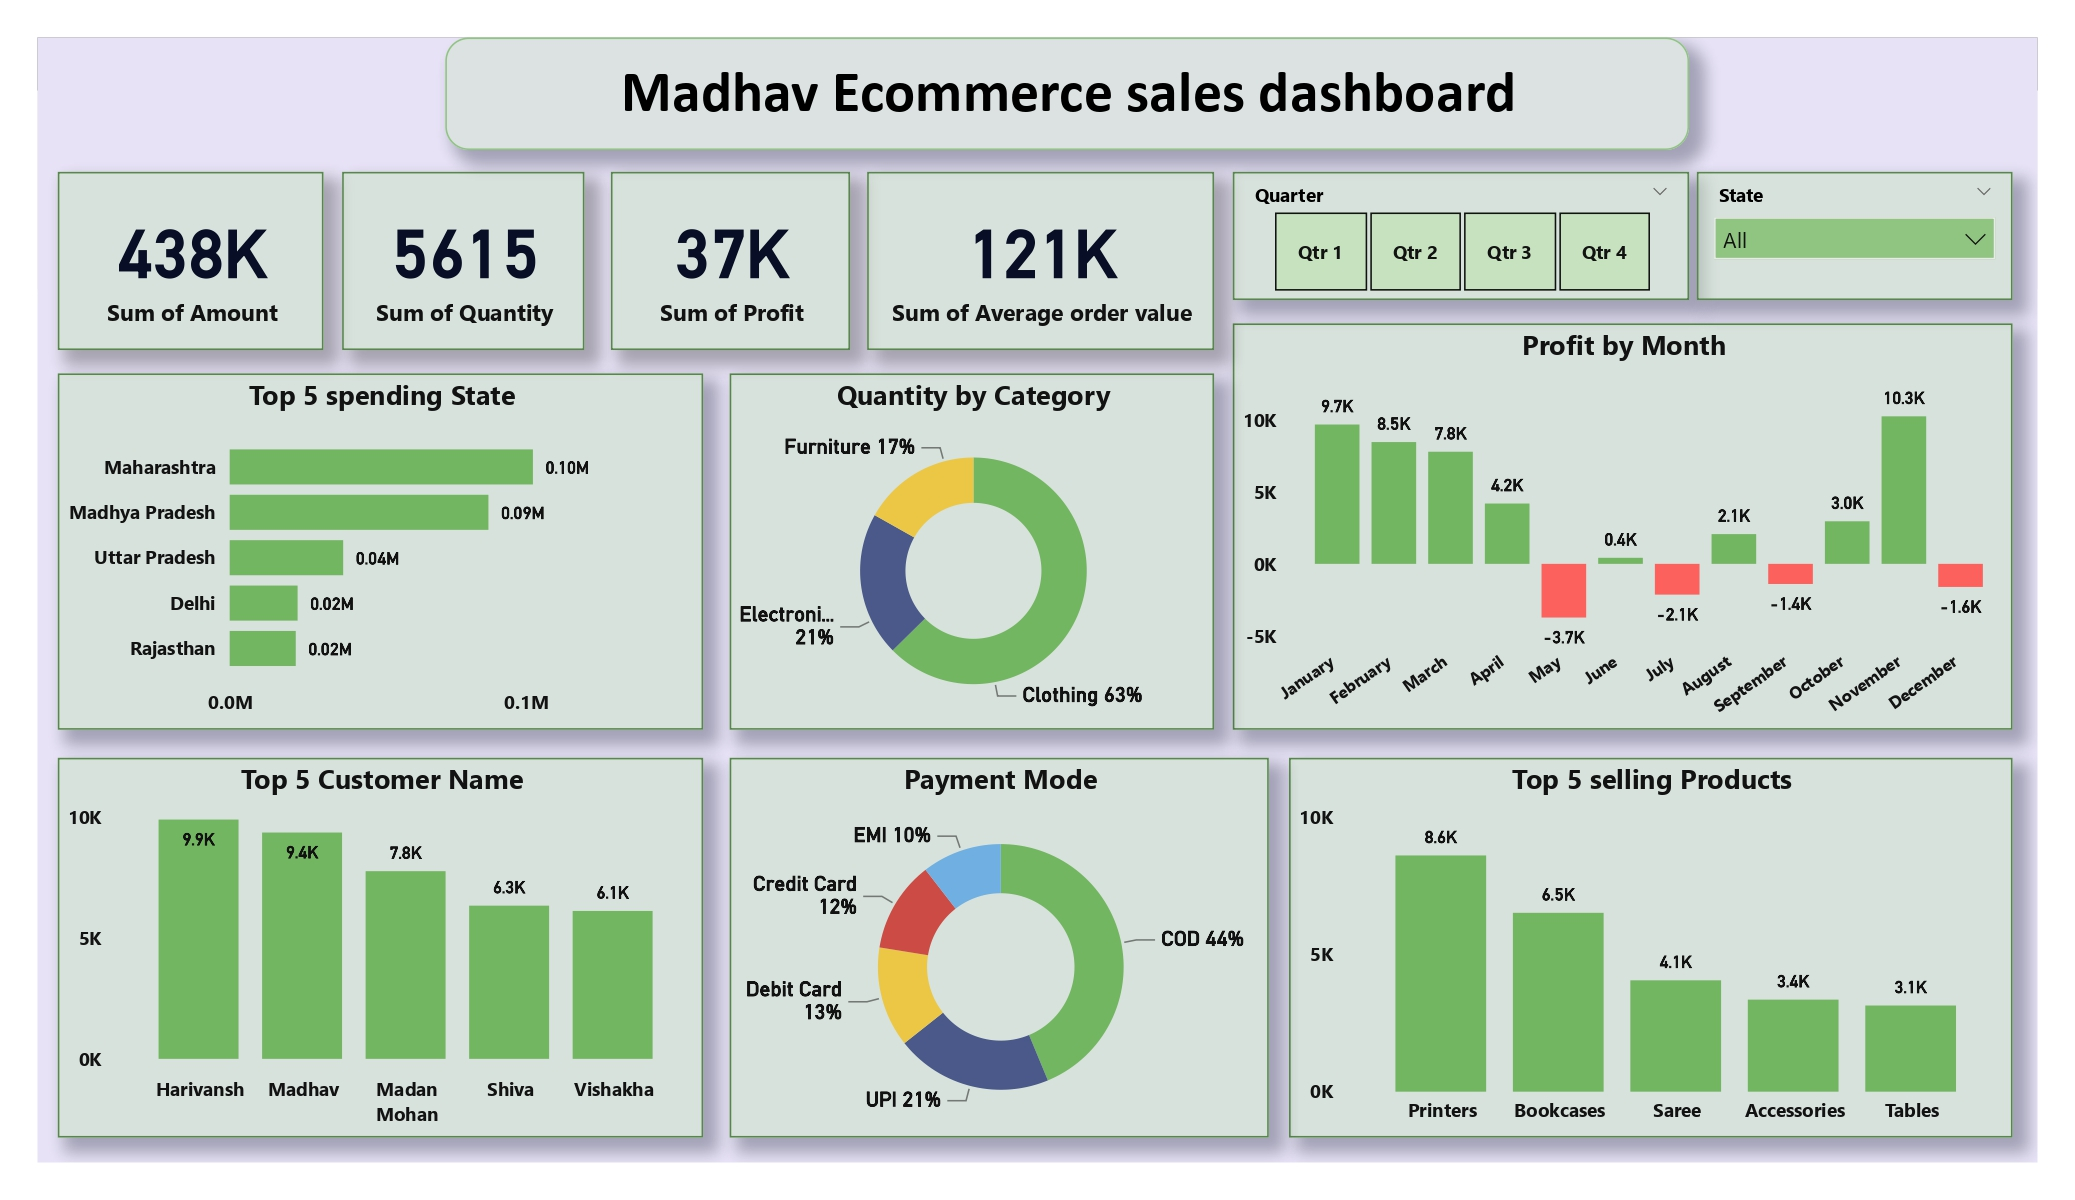

What the dashboard file says about the page in this screenshot:
{"tool":"powerbi","page":{"name":"Page 1","canvas":[1280,720],"ordinal":0},"visuals":[{"type":"textbox","box":[260.7,0,796.3,71.5],"z":0},{"type":"clusteredColumnChart","title":"Profit by Month","fields":{"Category":["Orders.Order Date.Variation.Date Hierarchy.Month"],"Y":["Details.Profit"]},"box":[764.5,182.8,499.1,260.7],"z":1000},{"type":"columnChart","title":"Top 5 selling  Products","fields":{"Category":["Details.Sub-Category"],"Y":["Details.Profit"]},"box":[801.1,460.9,462.5,243.2],"z":2000},{"type":"donutChart","title":"Quantity by Category","fields":{"Category":["Details.Category"],"Y":["Details.Quantity"]},"box":[443.4,214.6,309.9,228.9],"z":3000},{"type":"donutChart","title":" Payment Mode","fields":{"Category":["Details.PaymentMode"],"Y":["Details.Quantity"]},"box":[443.4,460.9,344.9,243.2],"z":4000},{"type":"card","fields":{"Values":["Details.Amount"]},"box":[12.7,85.8,170.1,114.4],"z":5000},{"type":"card","fields":{"Values":["Details.Quantity"]},"box":[195.5,85.8,154.2,114.4],"z":6000},{"type":"card","fields":{"Values":["Details.Profit"]},"box":[367.2,85.8,152.6,114.4],"z":7000},{"type":"card","fields":{"Values":["Details.Average order value"]},"box":[530.9,85.8,222.5,114.4],"z":8000},{"type":"barChart","title":"Top 5 spending State","fields":{"Category":["Orders.State"],"Y":["Details.Amount"]},"box":[12.7,214.6,413.2,228.9],"z":9000},{"type":"columnChart","title":"Top 5 Customer Name","fields":{"Category":["Orders.CustomerName"],"Y":["Details.Amount"]},"box":[12.7,460.9,413.2,243.2],"z":10000},{"type":"slicer","fields":{"Values":["Orders.Order Date.Variation.Date Hierarchy.Quarter"]},"box":[764.5,85.8,292.5,82.6],"z":11000},{"type":"slicer","fields":{"Values":["Orders.State"]},"box":[1061.7,85.8,201.9,82.6],"z":12000}]}

Visuals, with their boxes on the page's 1280x720 design canvas (x1, y1, x2, y2). These are canvas units, not pixel positions in the 2075x1200 screenshot, which may show the page scaled, cropped or inside an application window:
textbox: bbox=[261, 0, 1057, 72]
"Profit by Month" clusteredColumnChart: bbox=[764, 183, 1264, 444]
"Top 5 selling  Products" columnChart: bbox=[801, 461, 1264, 704]
"Quantity by Category" donutChart: bbox=[443, 215, 753, 444]
" Payment Mode" donutChart: bbox=[443, 461, 788, 704]
card - Details.Amount: bbox=[13, 86, 183, 200]
card - Details.Quantity: bbox=[196, 86, 350, 200]
card - Details.Profit: bbox=[367, 86, 520, 200]
card - Details.Average order value: bbox=[531, 86, 753, 200]
"Top 5 spending State" barChart: bbox=[13, 215, 426, 444]
"Top 5 Customer Name" columnChart: bbox=[13, 461, 426, 704]
slicer - Orders.Order Date.Variation.Date Hierarchy.Quarter: bbox=[764, 86, 1057, 168]
slicer - Orders.State: bbox=[1062, 86, 1264, 168]
